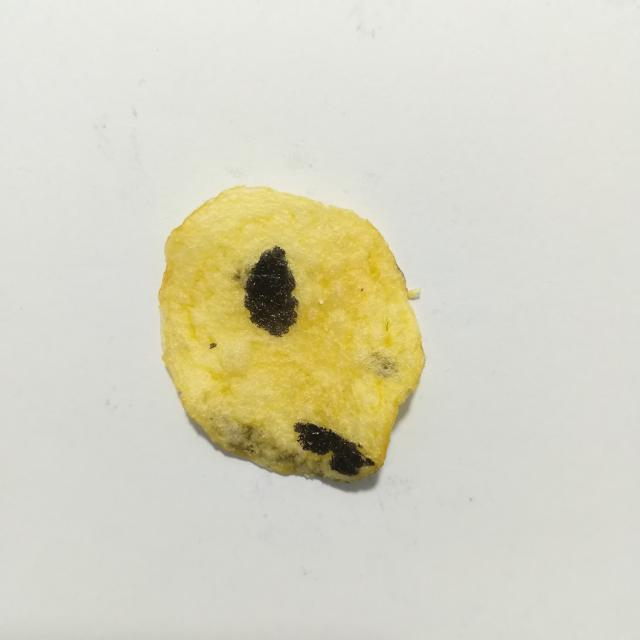chip: (158, 186, 425, 481)
damaged: (245, 246, 298, 336), (294, 422, 374, 476)
semi-damaged: (210, 417, 376, 482), (366, 351, 397, 377), (234, 262, 258, 289), (209, 342, 216, 349)
